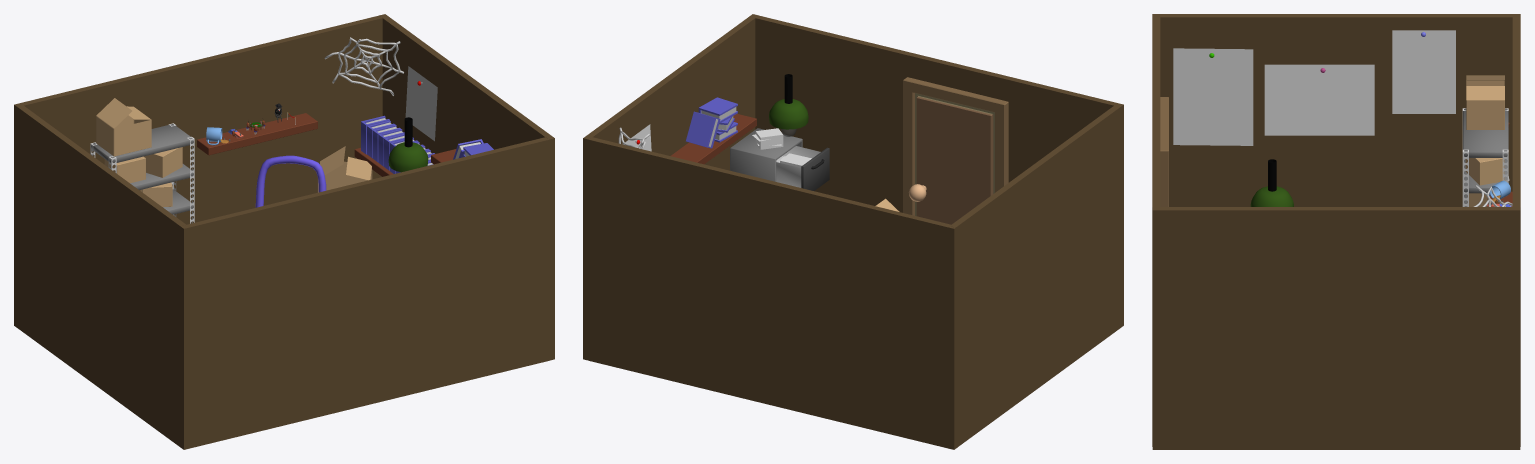
Rendered from кладовка.fbx.
The picture shows the model from 3 angles, left to right: view 1: azimuth 30°, elevation 25°; view 2: azimuth 150°, elevation 25°; view 3: azimuth 270°, elevation 25°; orthographic projection. The views are drawn at different scales.
Visible parts, largest first — view 1: Cube.104, Cube.105, Cube.002, Cube.074, Cube.087, Cube.001, Cube.008, Plane.071, Cube.012, Cube.009, Cube.097, Cylinder (+4 smaller); view 2: Cube.002, Cube.105, Cube.104, Cube.107, Cube.074, Cube.041, Cube.042, Cylinder, Cube.006, Cube.101, Cube.102; view 3: Cube.074, Cube.105, Plane.063, Plane.061, Plane.062, Cube.087, Cube.104, Cube.002, Cube.001, Cube.107, Cylinder, Cube.092 (+1 smaller).
Boxes of the visible parts, bbox=[...] form: Cube.104: bbox=[180, 137, 549, 449]; Cube.105: bbox=[16, 104, 186, 446]; Cube.002: bbox=[14, 15, 382, 327]; Cube.074: bbox=[379, 14, 554, 360]; Cube.087: bbox=[96, 98, 151, 156]; Cube.001: bbox=[91, 124, 193, 214]; Cube.008: bbox=[197, 113, 317, 155]; Plane.071: bbox=[405, 66, 437, 141]; Cube.012: bbox=[324, 37, 403, 95]; Cube.009: bbox=[317, 146, 372, 192]; Cube.097: bbox=[364, 117, 434, 173]; Cylinder: bbox=[388, 117, 428, 172]; Cube.002: bbox=[589, 137, 957, 449]; Cube.105: bbox=[950, 105, 1120, 446]; Cube.104: bbox=[755, 15, 1123, 327]; Cube.107: bbox=[903, 77, 1008, 224]; Cube.074: bbox=[583, 14, 758, 360]; Cube.041: bbox=[730, 128, 802, 181]; Cube.042: bbox=[776, 146, 829, 190]; Cylinder: bbox=[769, 74, 808, 129]; Cube.006: bbox=[670, 114, 756, 164]; Cube.101: bbox=[686, 111, 720, 148]; Cube.102: bbox=[698, 97, 737, 123]; Cube.074: bbox=[1152, 207, 1520, 449]; Cube.105: bbox=[1160, 14, 1516, 206]; Plane.063: bbox=[1264, 64, 1374, 135]; Plane.061: bbox=[1173, 48, 1253, 145]; Plane.062: bbox=[1392, 30, 1455, 113]; Cube.087: bbox=[1466, 75, 1504, 129]; Cube.104: bbox=[1152, 14, 1160, 446]; Cube.002: bbox=[1512, 14, 1520, 446]; Cube.001: bbox=[1463, 108, 1508, 206]; Cube.107: bbox=[1160, 97, 1168, 206]; Cylinder: bbox=[1250, 159, 1293, 206]; Cube.092: bbox=[1465, 158, 1504, 185].
Size of the model in its own units: 501 by 286 by 397.
